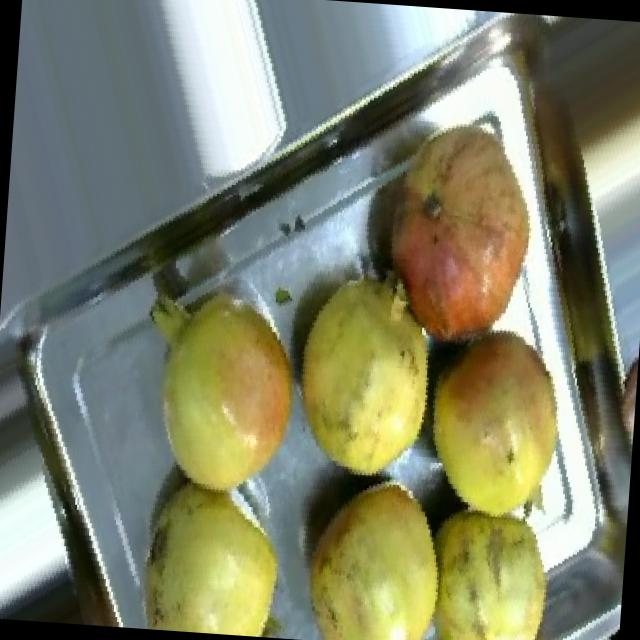fruit: (120, 250, 322, 520), (274, 239, 461, 500), (407, 307, 589, 548), (104, 462, 309, 639), (284, 457, 468, 640), (364, 180, 544, 366), (399, 483, 580, 640)
